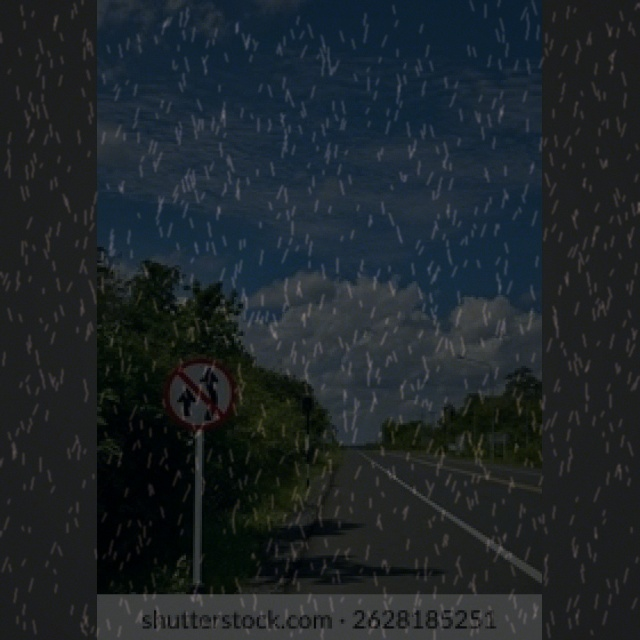Overtaking_Prohibited: (162, 360, 236, 430)
